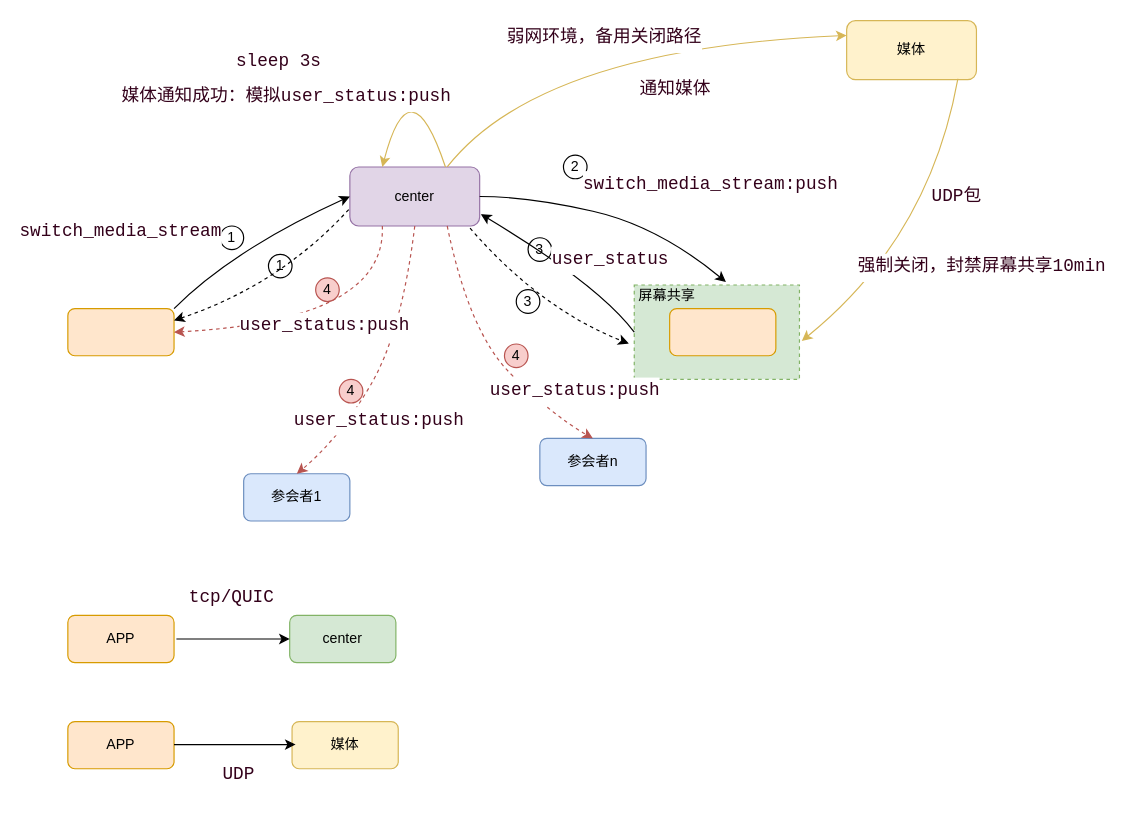
This 1139x813 diagram has some shape labels left out. Here are the shapes that lost their labels. From the top down, the centre of each, then its label:
At point 120,331: "主持人".
At point 722,331: "参会者m".
